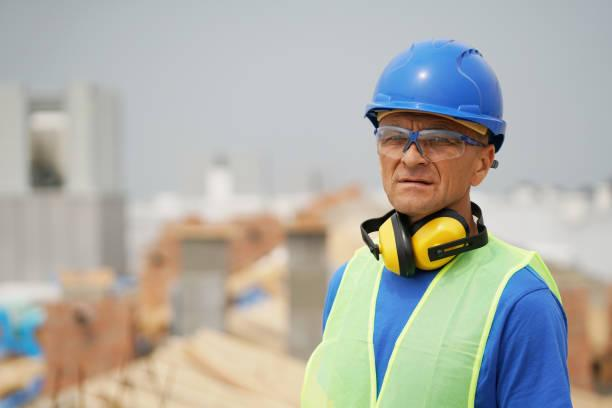goggle: (361, 119, 495, 162)
helmet: (356, 24, 521, 144)
vest: (297, 215, 562, 408)
